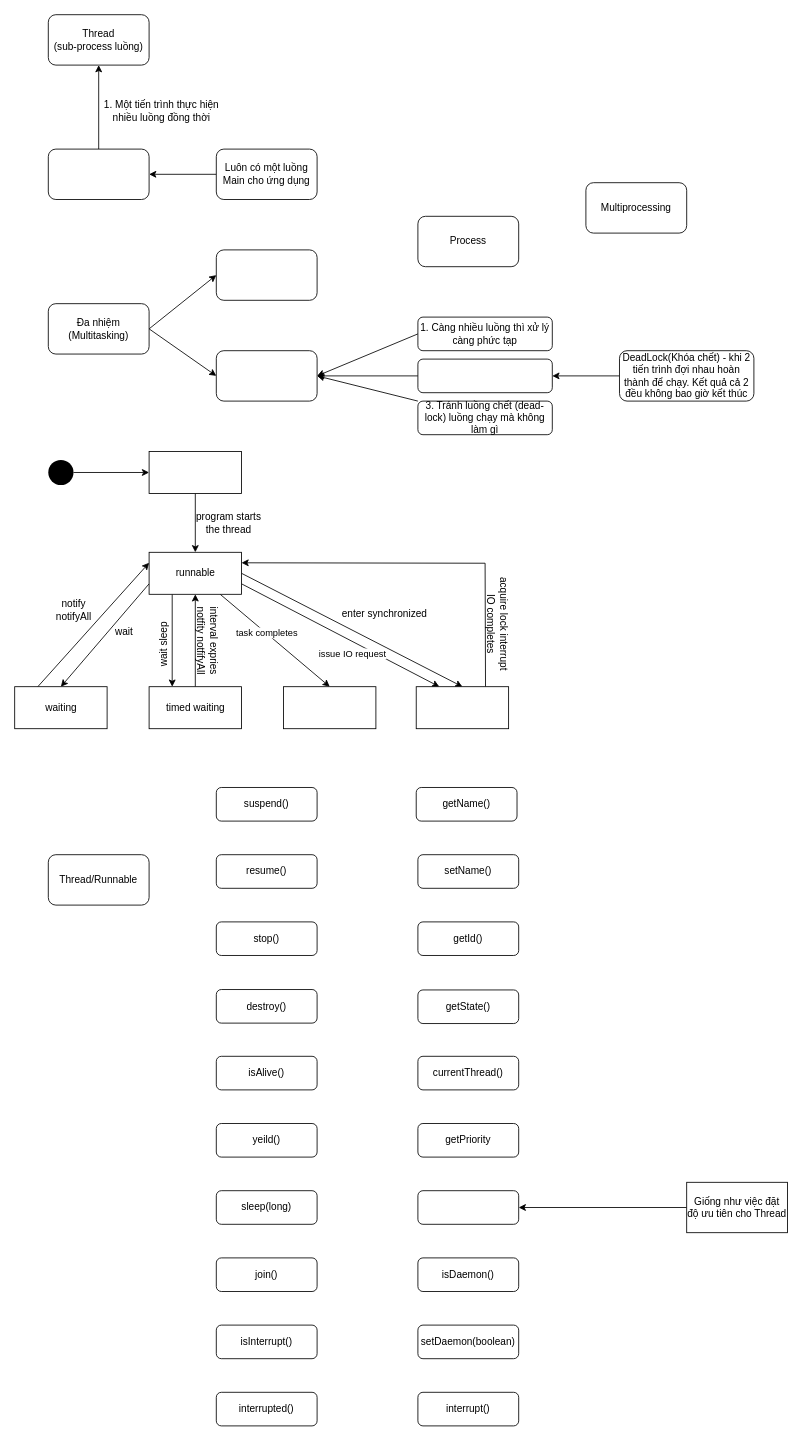
This 802x1441 diagram has some shape labels left out. The shapes that lost their labels are listed below. From the top down, each one's box as (x1, y1, x2, y2) in pixels, then its label:
(47, 148, 149, 200): Multi-thread (Đa luồng)
(215, 249, 317, 300): Dựa trên đơn tiến trình (process) - Đa tiến trình (Multiprocessing)
(215, 350, 317, 401): Dựa trên luồng (Thread) - Đa luồng (MutiThreading)
(417, 358, 552, 393): 2. Tranh chấp bộ nhớ, đồng bộ dữ liệu phức tạp
(148, 451, 242, 494): new
(283, 686, 376, 729): terminated
(415, 686, 509, 729): blocked
(417, 1190, 519, 1224): setProperty(int)
